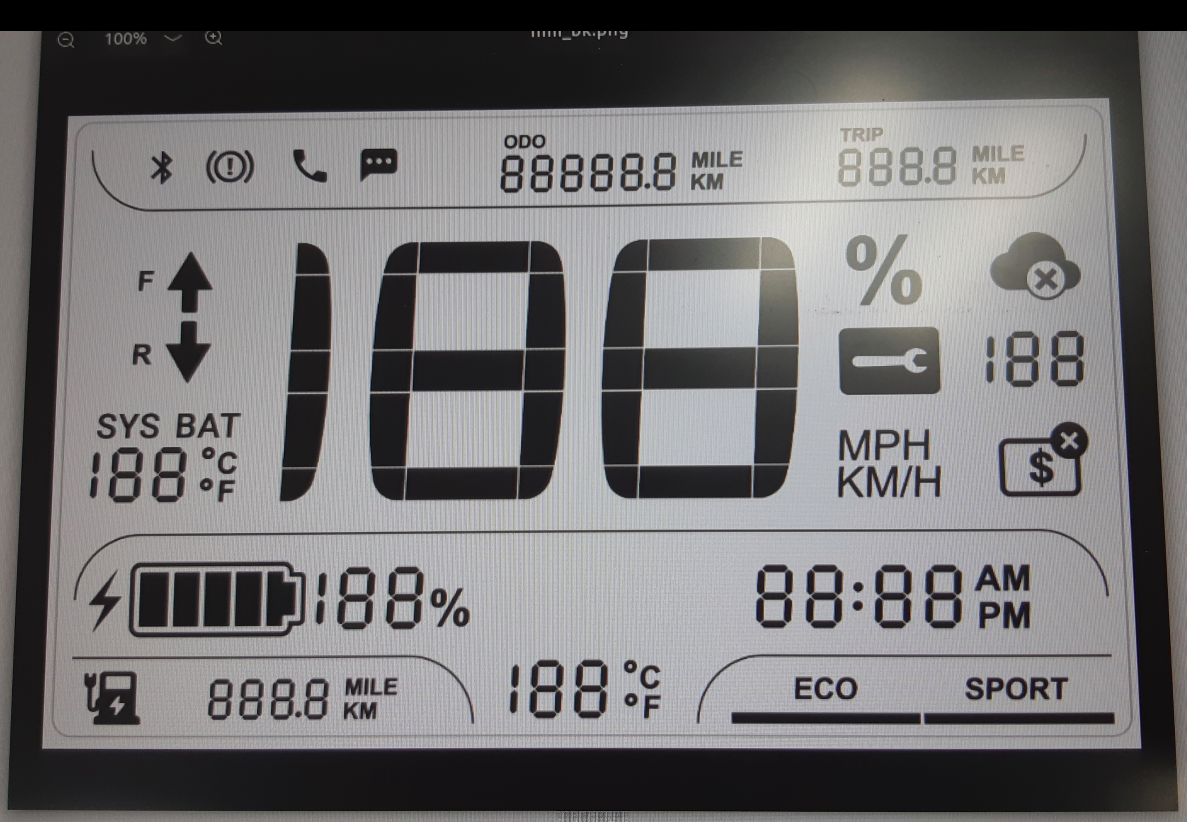bluetooth_on: (143, 145, 181, 191)
braking_on: (201, 145, 258, 188)
calling_on: (287, 145, 336, 185)
connection_lost: (985, 227, 1086, 305)
error_code: (833, 324, 945, 400)
low_battery: (81, 667, 146, 732)
sms_on: (354, 145, 404, 185)
vin_id: (995, 420, 1091, 501)
